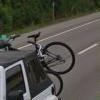Bicycle: (2, 29, 78, 74)
